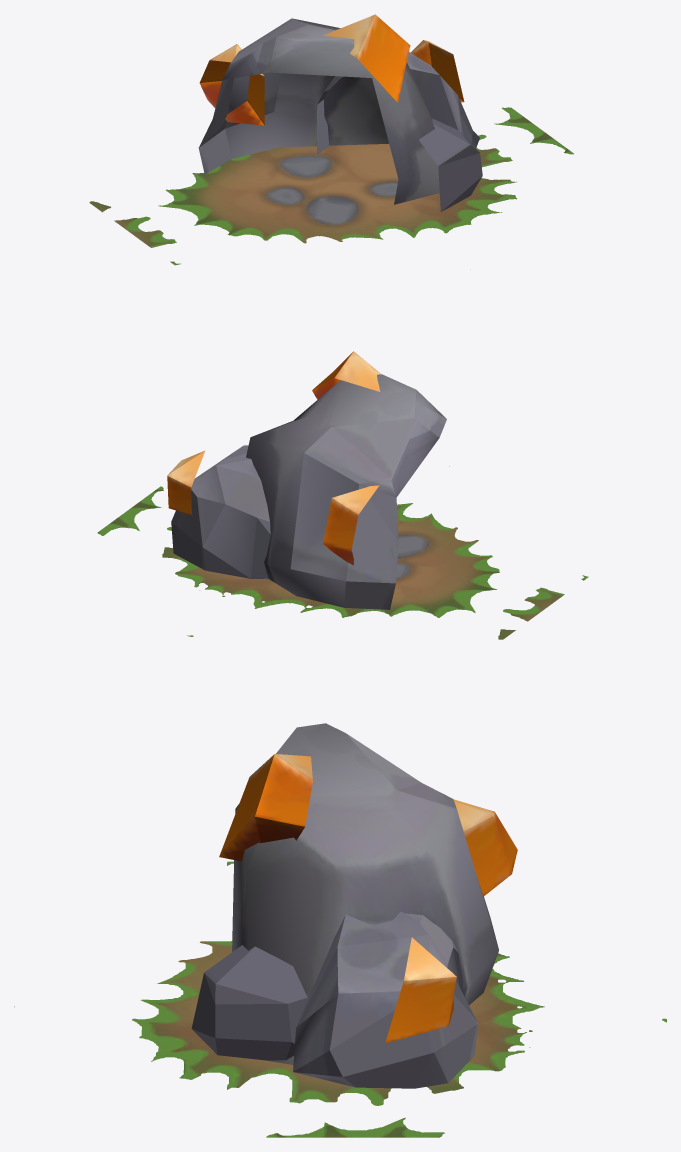
The model's file is RockMediumCopper.fbx.
3 renders of one model, top to bottom at view 1: azimuth 30°, elevation 25°; view 2: azimuth 150°, elevation 25°; view 3: azimuth 270°, elevation 25°, orthographic. The views are drawn at different scales.
Parts seen in each view (by area): view 1: RockMesh, RockGroundDecal, Resource3, Resource1, Resource2; view 2: RockMesh, RockGroundDecal, Resource1, Resource3, Resource2; view 3: RockMesh, RockGroundDecal, Resource3, Resource2, Resource1.
Part boxes in pixels (x1,y1,x2,y2): RockMesh: (198,18,482,211); RockGroundDecal: (89,107,573,269); Resource3: (323,14,410,102); Resource1: (199,44,264,125); Resource2: (411,40,464,102); RockMesh: (171,374,446,609); RockGroundDecal: (97,466,588,639); Resource1: (323,485,379,565); Resource3: (312,351,381,399); Resource2: (167,450,204,515); RockMesh: (191,723,498,1088); RockGroundDecal: (14,861,666,1137); Resource3: (219,754,312,861); Resource2: (385,937,456,1043); Resource1: (453,799,517,896).
Size of what is drawn, in the model's own units: 2.76 by 1.18 by 2.76.
